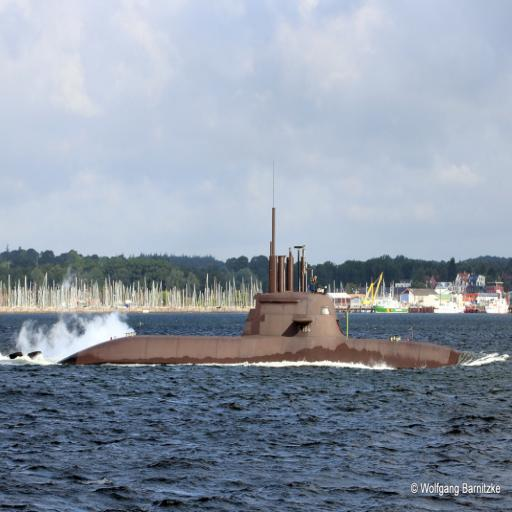submarine: (52, 194, 483, 372)
